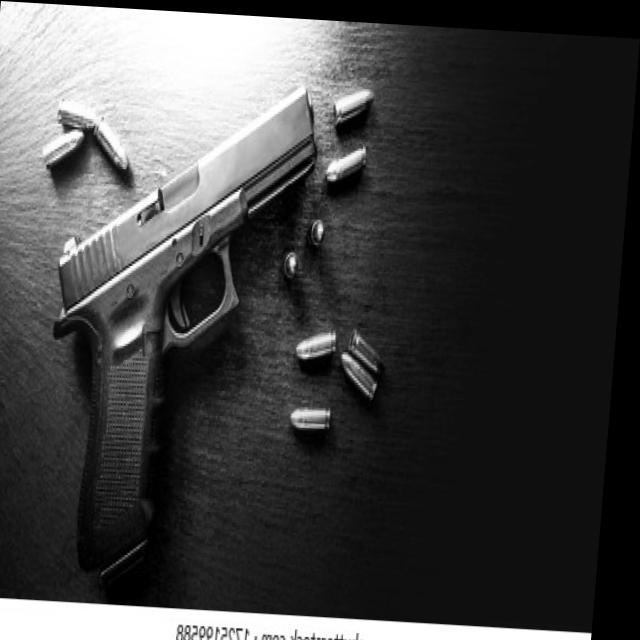handgun: (44, 60, 322, 595)
